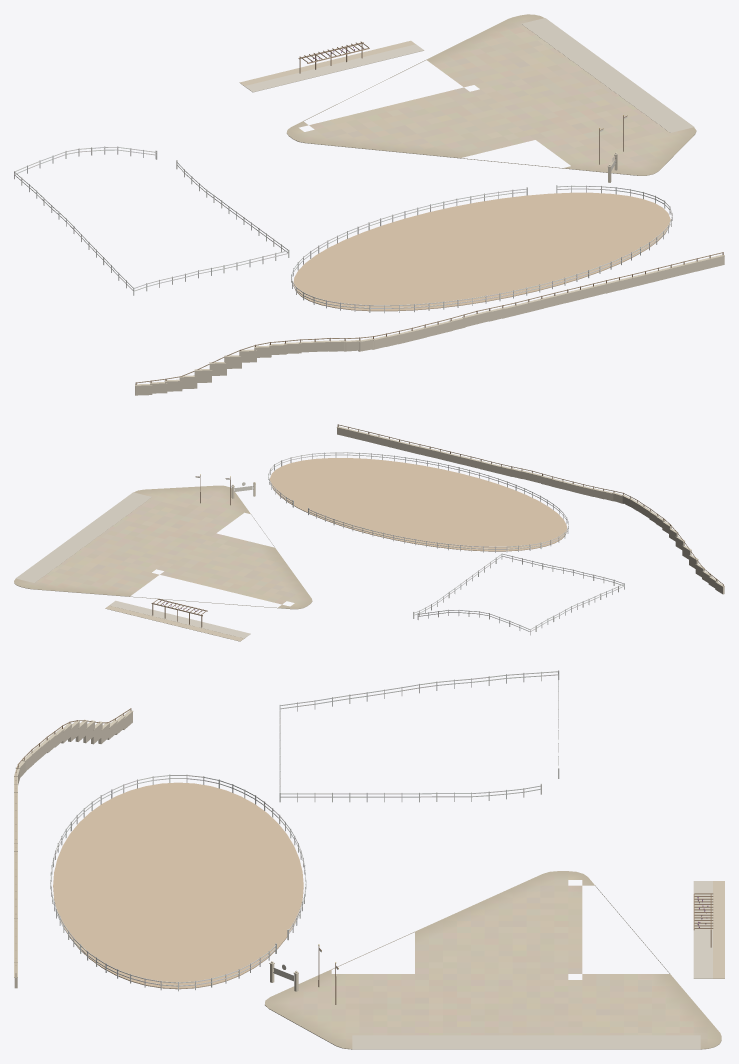
The model's file is SM_BM_BE_5_Grounds.glb.
The picture shows the model from 3 angles, top to bottom: view 1: azimuth 30°, elevation 25°; view 2: azimuth 150°, elevation 25°; view 3: azimuth 270°, elevation 25°; orthographic projection. The views are drawn at different scales.
Visible parts, largest first — view 1: SM_BM_BE_5_Grounds; view 2: SM_BM_BE_5_Grounds; view 3: SM_BM_BE_5_Grounds.
Part boxes in pixels (bbox=[...]): SM_BM_BE_5_Grounds: bbox=[14, 14, 724, 395]; SM_BM_BE_5_Grounds: bbox=[14, 424, 724, 641]; SM_BM_BE_5_Grounds: bbox=[14, 670, 724, 1049].
Bounding box in the file's own units: 127 × 15.22 × 102.
